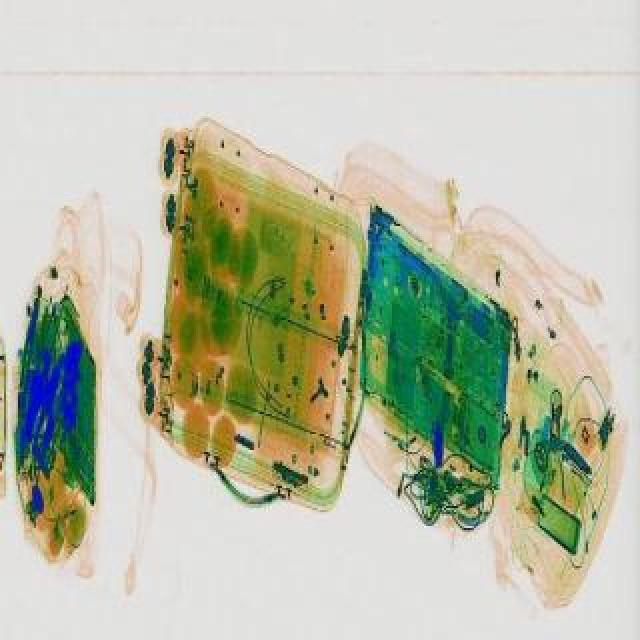wrench: (18, 290, 46, 388)
